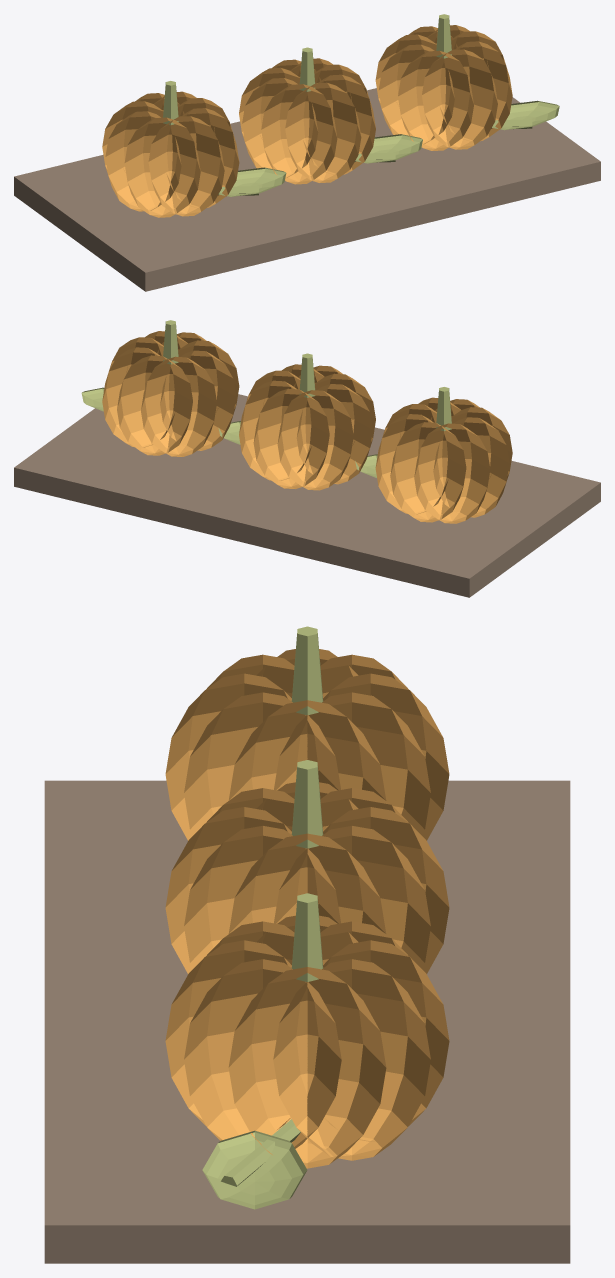
The model's file is harvest-hearth-pumpkin-growing-bed__56.glb.
The picture shows the model from 3 angles, top to bottom: view 1: azimuth 30°, elevation 25°; view 2: azimuth 150°, elevation 25°; view 3: azimuth 270°, elevation 25°; orthographic projection. The views are drawn at different scales.
Visible parts, largest first — view 1: harvest-hearth-pumpkin-patch; view 2: harvest-hearth-pumpkin-patch; view 3: harvest-hearth-pumpkin-patch.
Boxes of the visible parts, bbox=[...] form: harvest-hearth-pumpkin-patch: bbox=[14, 14, 600, 291]; harvest-hearth-pumpkin-patch: bbox=[14, 320, 600, 597]; harvest-hearth-pumpkin-patch: bbox=[44, 626, 570, 1263].
Bounding box in the file's own units: 2.05 × 0.58 × 1.
